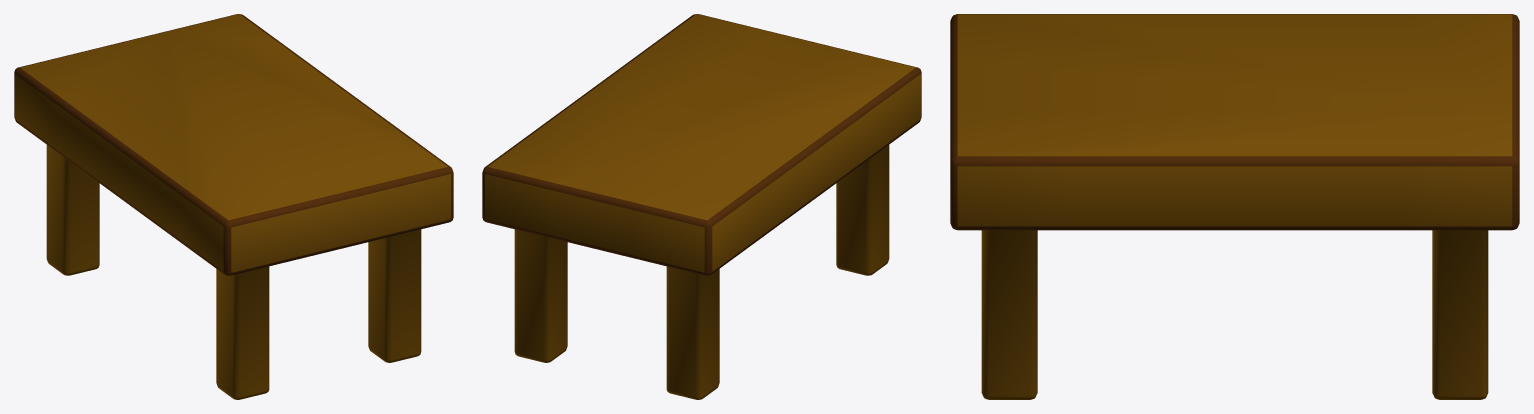
Rendered from Table.fbx.
3 renders of one model, left to right at view 1: azimuth 30°, elevation 25°; view 2: azimuth 150°, elevation 25°; view 3: azimuth 270°, elevation 25°, orthographic. The views are drawn at different scales.
Visible parts, largest first — view 1: Cube; view 2: Cube; view 3: Cube.
Boxes of the visible parts, x1,y1,x2,y2 form: Cube: (14,14,453,399); Cube: (482,14,921,399); Cube: (950,14,1519,399).
Size of the model in its own units: 123 by 99.42 by 200.
